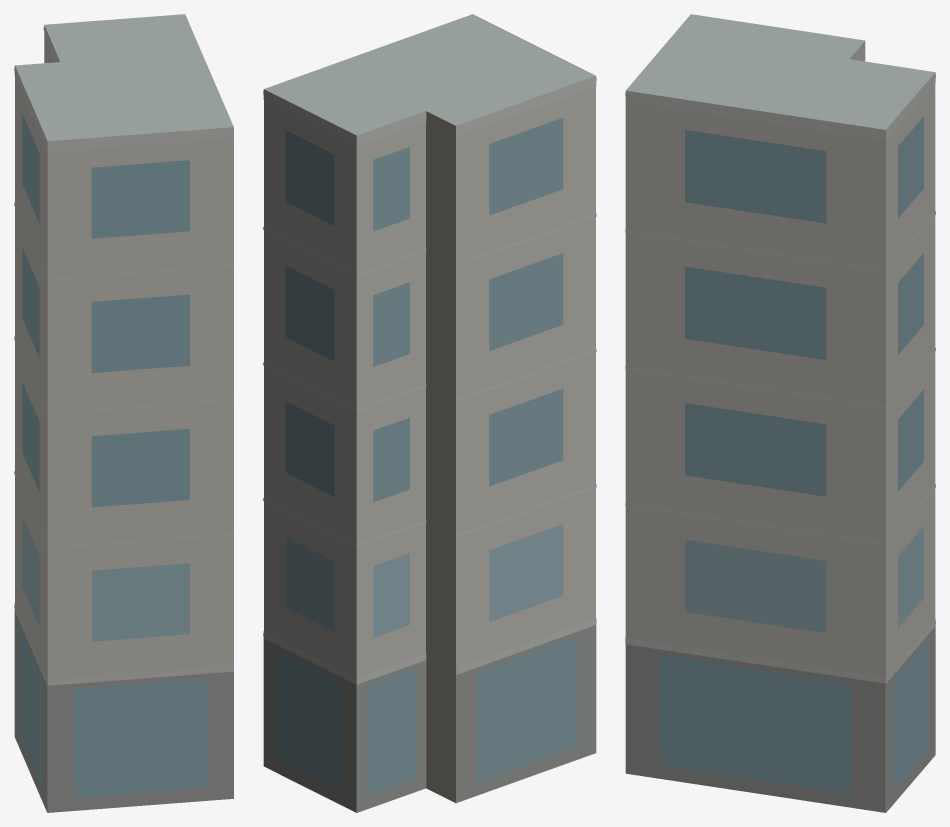
File: survey-upis-32818604.glb
3 renders of one model, left to right at view 1: azimuth 30°, elevation 25°; view 2: azimuth 150°, elevation 25°; view 3: azimuth 270°, elevation 25°, orthographic.
Visible parts, largest first — view 1: survey-upis-32818604.tmp; view 2: survey-upis-32818604.tmp; view 3: survey-upis-32818604.tmp.
Part boxes in pixels (<box>): survey-upis-32818604.tmp: <box>14,14,233,812</box>; survey-upis-32818604.tmp: <box>263,14,596,812</box>; survey-upis-32818604.tmp: <box>625,14,935,812</box>.
Size of the model in its own units: 5.58 by 15.25 by 6.29.
